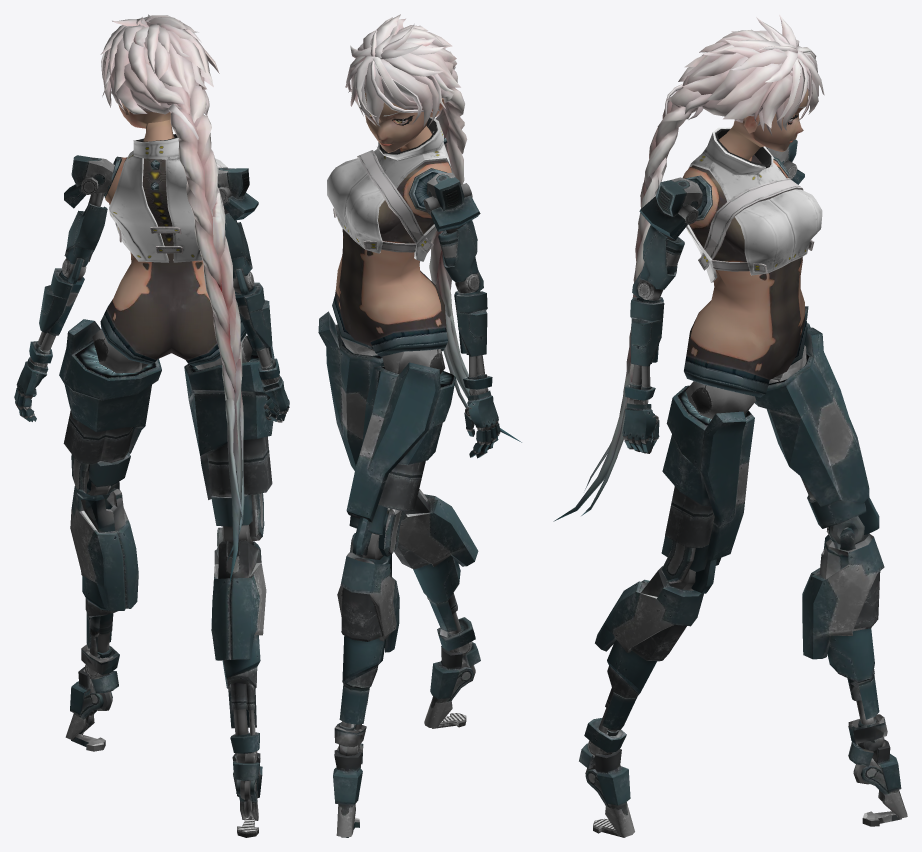
File: cybergirl.glb
3 views of the same model, side by side, from view 1: azimuth 30°, elevation 25°; view 2: azimuth 150°, elevation 25°; view 3: azimuth 270°, elevation 25° (orthographic). The views are drawn at different scales.
Visible parts, largest first — view 1: Object_8.001, Object_108.001, Object_9.001, Object_110.001, Object_112.001, Object_106.001; view 2: Object_8.001, Object_110.001, Object_108.001, Object_9.001, Object_112.001, Object_106.001; view 3: Object_8.001, Object_110.001, Object_108.001, Object_112.001, Object_9.001, Object_106.001.
Boxes of the visible parts, left/top/right/bottom form: Object_8.001: left=59, top=319, right=274, bottom=837; Object_108.001: left=100, top=14, right=244, bottom=584; Object_9.001: left=14, top=155, right=289, bottom=422; Object_110.001: left=100, top=119, right=246, bottom=366; Object_112.001: left=109, top=134, right=227, bottom=262; Object_106.001: left=118, top=103, right=170, bottom=128; Object_8.001: left=318, top=311, right=480, bottom=837; Object_110.001: left=332, top=125, right=451, bottom=357; Object_108.001: left=345, top=14, right=521, bottom=442; Object_9.001: left=419, top=172, right=500, bottom=458; Object_112.001: left=327, top=117, right=454, bottom=261; Object_106.001: left=359, top=93, right=444, bottom=152; Object_8.001: left=579, top=327, right=907, bottom=837; Object_110.001: left=682, top=126, right=807, bottom=397; Object_108.001: left=553, top=14, right=824, bottom=521; Object_112.001: left=685, top=127, right=822, bottom=282; Object_9.001: left=622, top=139, right=810, bottom=453; Object_106.001: left=733, top=89, right=808, bottom=151.
Bounding box in the file's own units: 0.7598 × 2.6 × 1.05.
6 materials, 6 textured.
